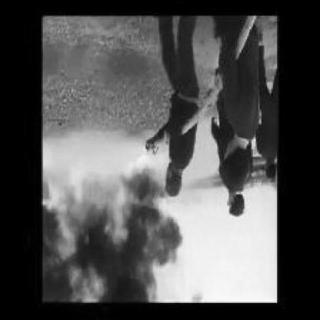Fire: (46, 138, 152, 298)
Smoke: (92, 203, 190, 301)
